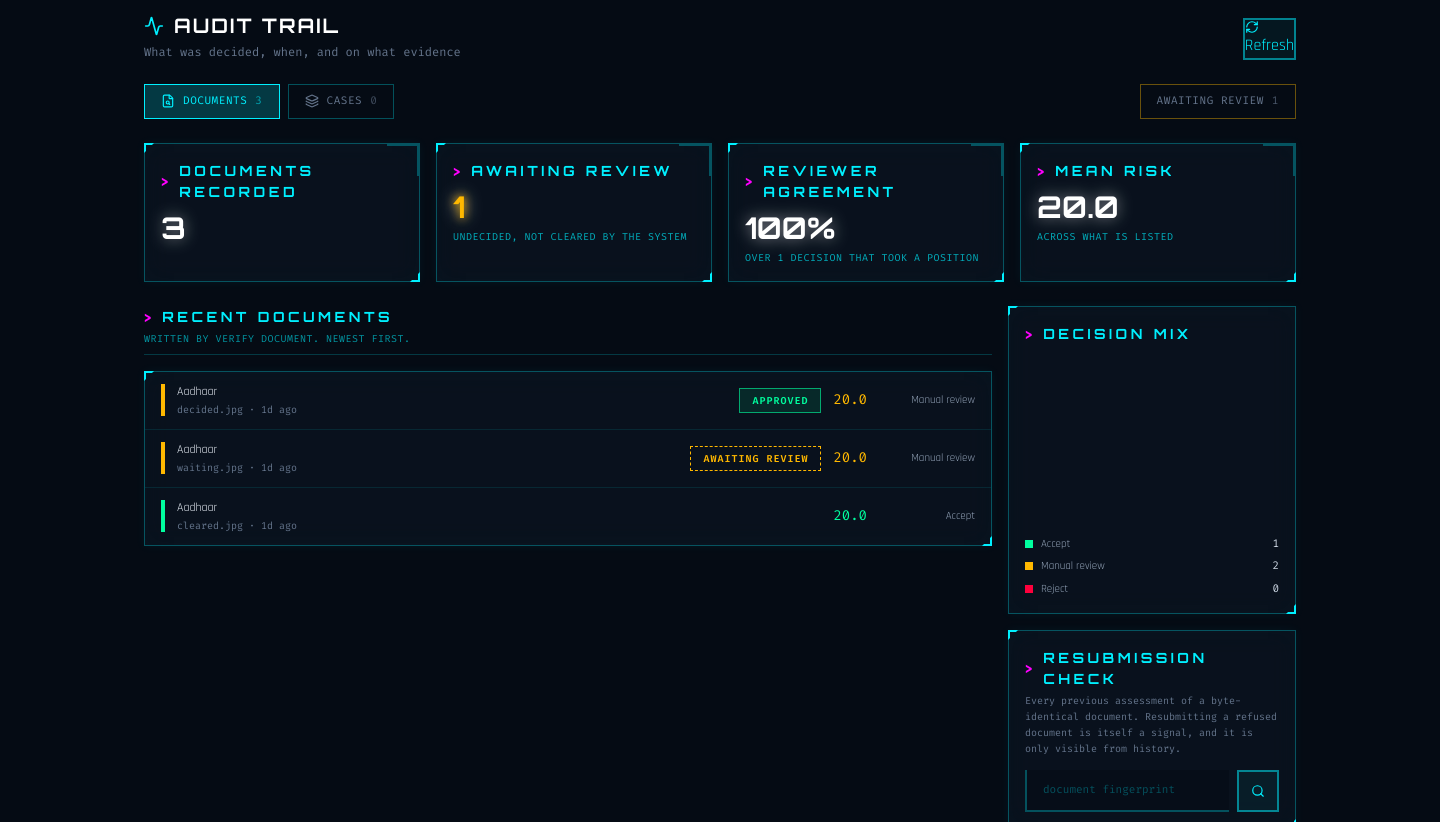
Scenario: the queue filter leaves only what needs a person
Expected: the text "waiting.jpg · 1d ago" is shown, [177,460,297,474]
Click the button "Awaiting review 1" at (1218, 101), box [1140,84,1296,118]
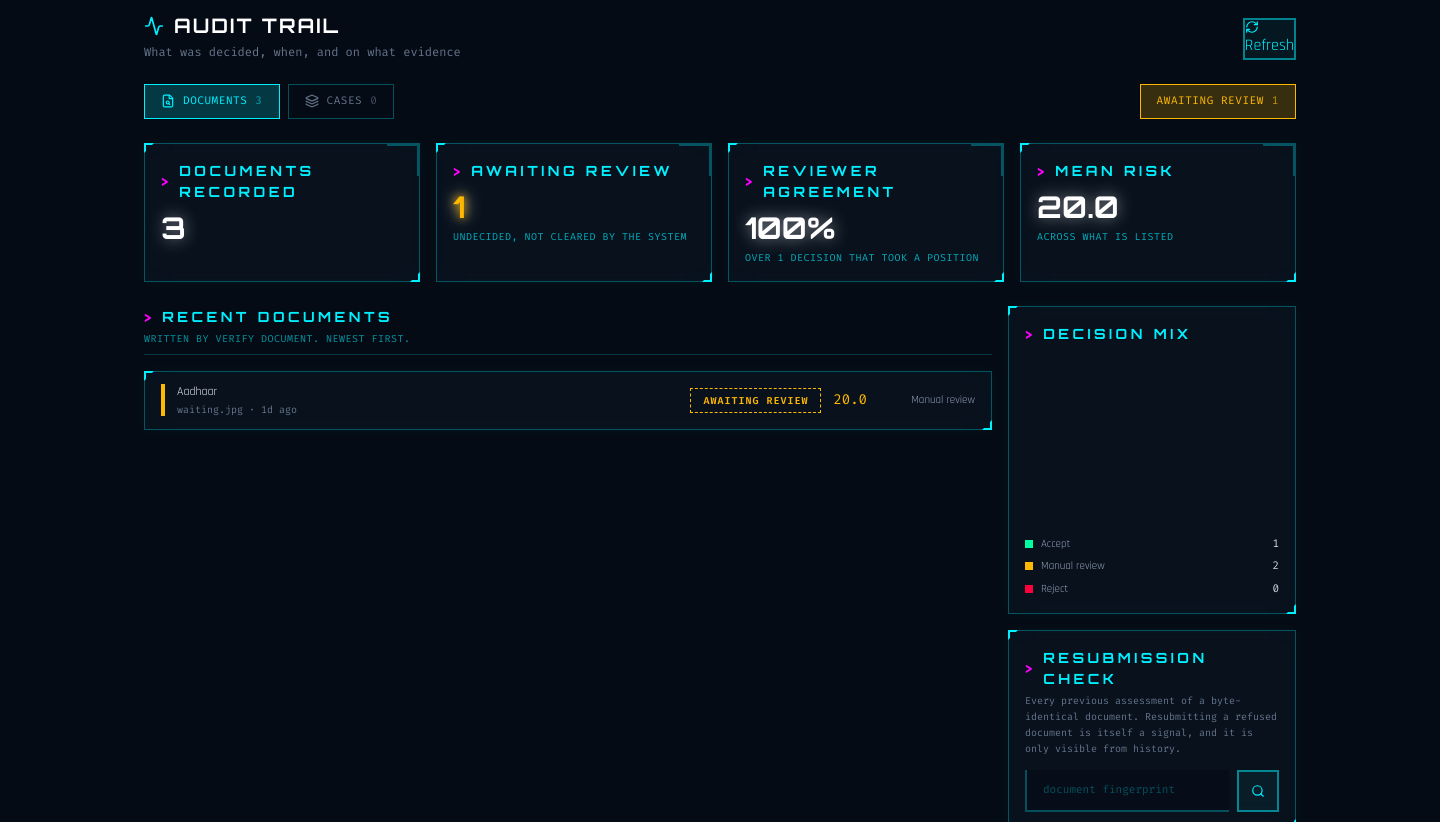
Expected: the text "waiting.jpg · 1d ago" is shown, [177,402,297,416]
Expected: the heading "decided.jpg" is gone
Expected: the heading "cleared.jpg" is gone
